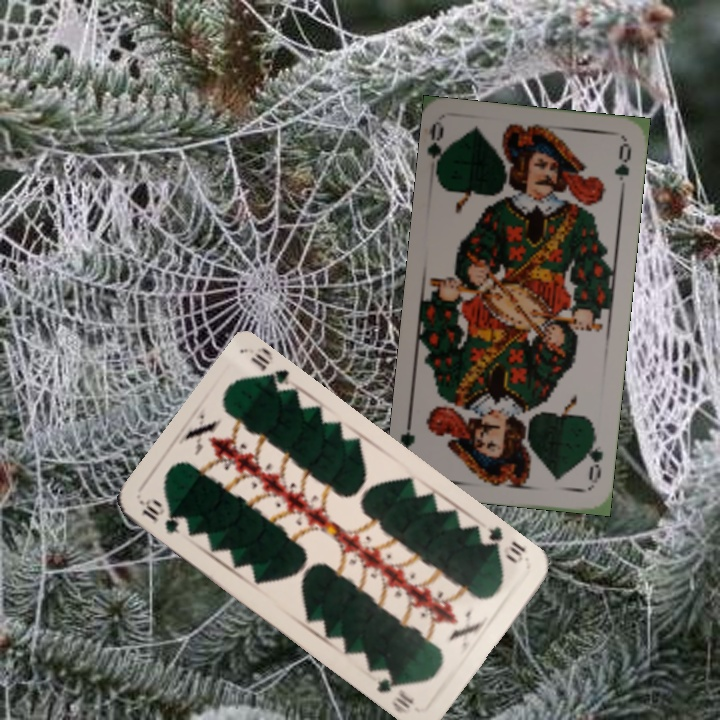G10: (482, 522, 529, 567), (137, 494, 184, 537)
GO: (424, 121, 453, 181), (580, 429, 606, 488)
